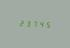five: (42, 20, 47, 28)
four: (36, 20, 41, 28)
seven: (30, 19, 35, 28)
three: (24, 19, 29, 27)
two: (18, 19, 23, 27)
